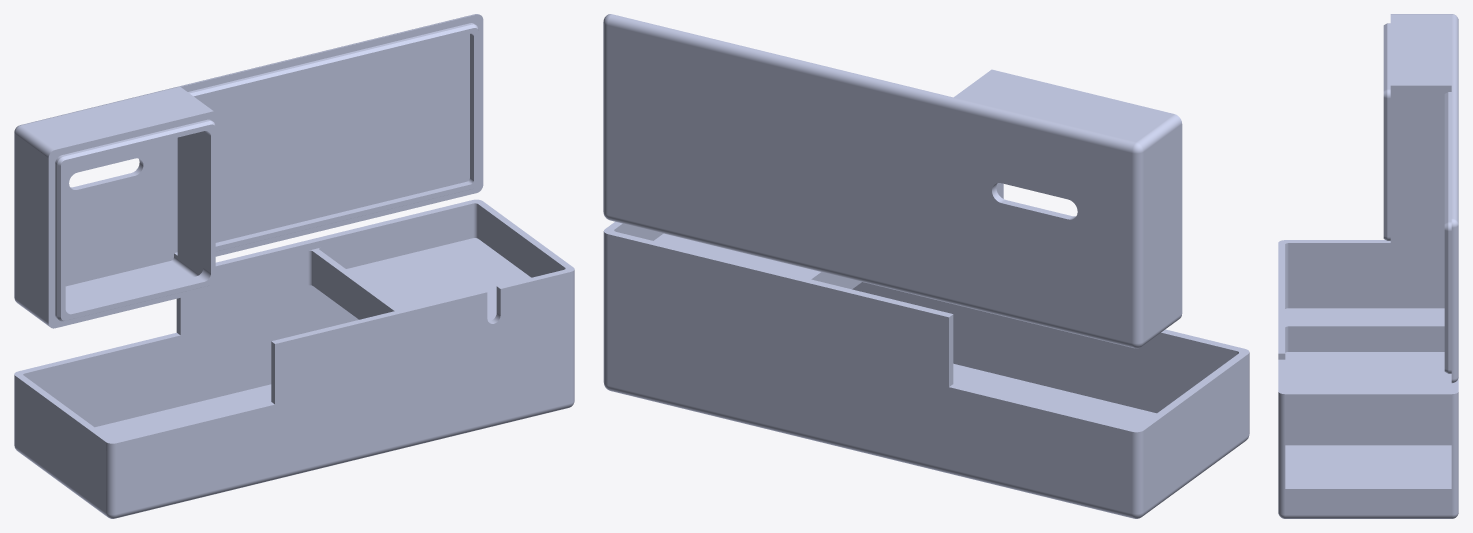
Rendered from box_assy1.glb.
The picture shows the model from 3 angles, left to right: view 1: azimuth 30°, elevation 25°; view 2: azimuth 150°, elevation 25°; view 3: azimuth 270°, elevation 25°; orthographic projection. The views are drawn at different scales.
Visible parts, largest first — view 1: Simon Box-2, Simon Box Lid-2; view 2: Simon Box Lid-2, Simon Box-2; view 3: Simon Box-2, Simon Box Lid-2.
Part boxes in pixels (x1,y1,x2,y2): Simon Box-2: (14, 199, 574, 518); Simon Box Lid-2: (14, 14, 483, 328); Simon Box Lid-2: (603, 14, 1182, 348); Simon Box-2: (603, 221, 1249, 518); Simon Box-2: (1278, 240, 1458, 518); Simon Box Lid-2: (1383, 14, 1458, 383).
Size of the model in its own units: 0.1798 by 0.1198 by 0.0654.
